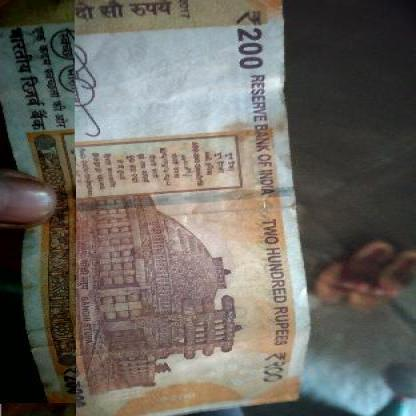New200Back: (9, 0, 294, 408)
